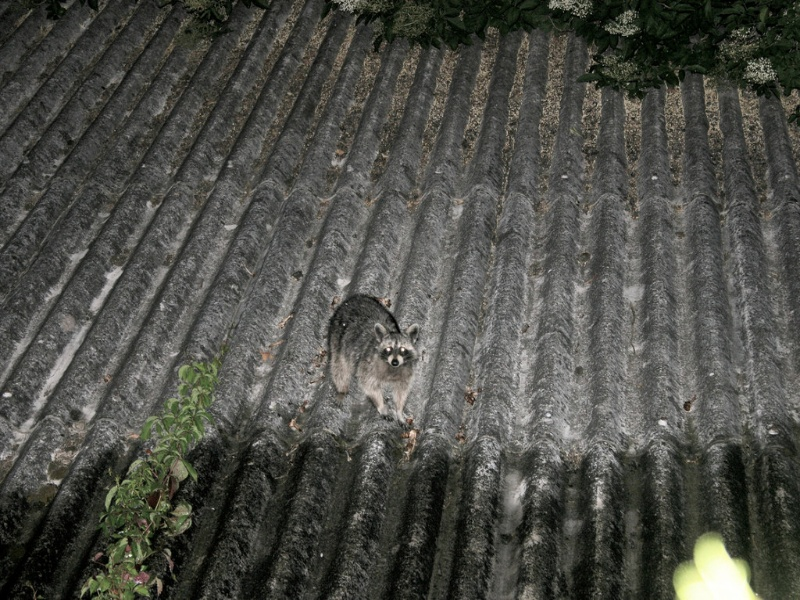raccoon: (319, 291, 427, 432)
